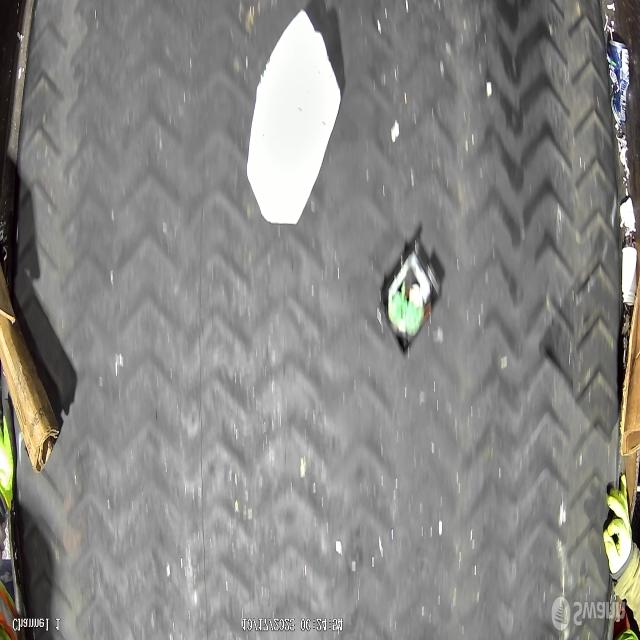can: (606, 39, 630, 128)
milk_jug: (247, 12, 341, 228)
